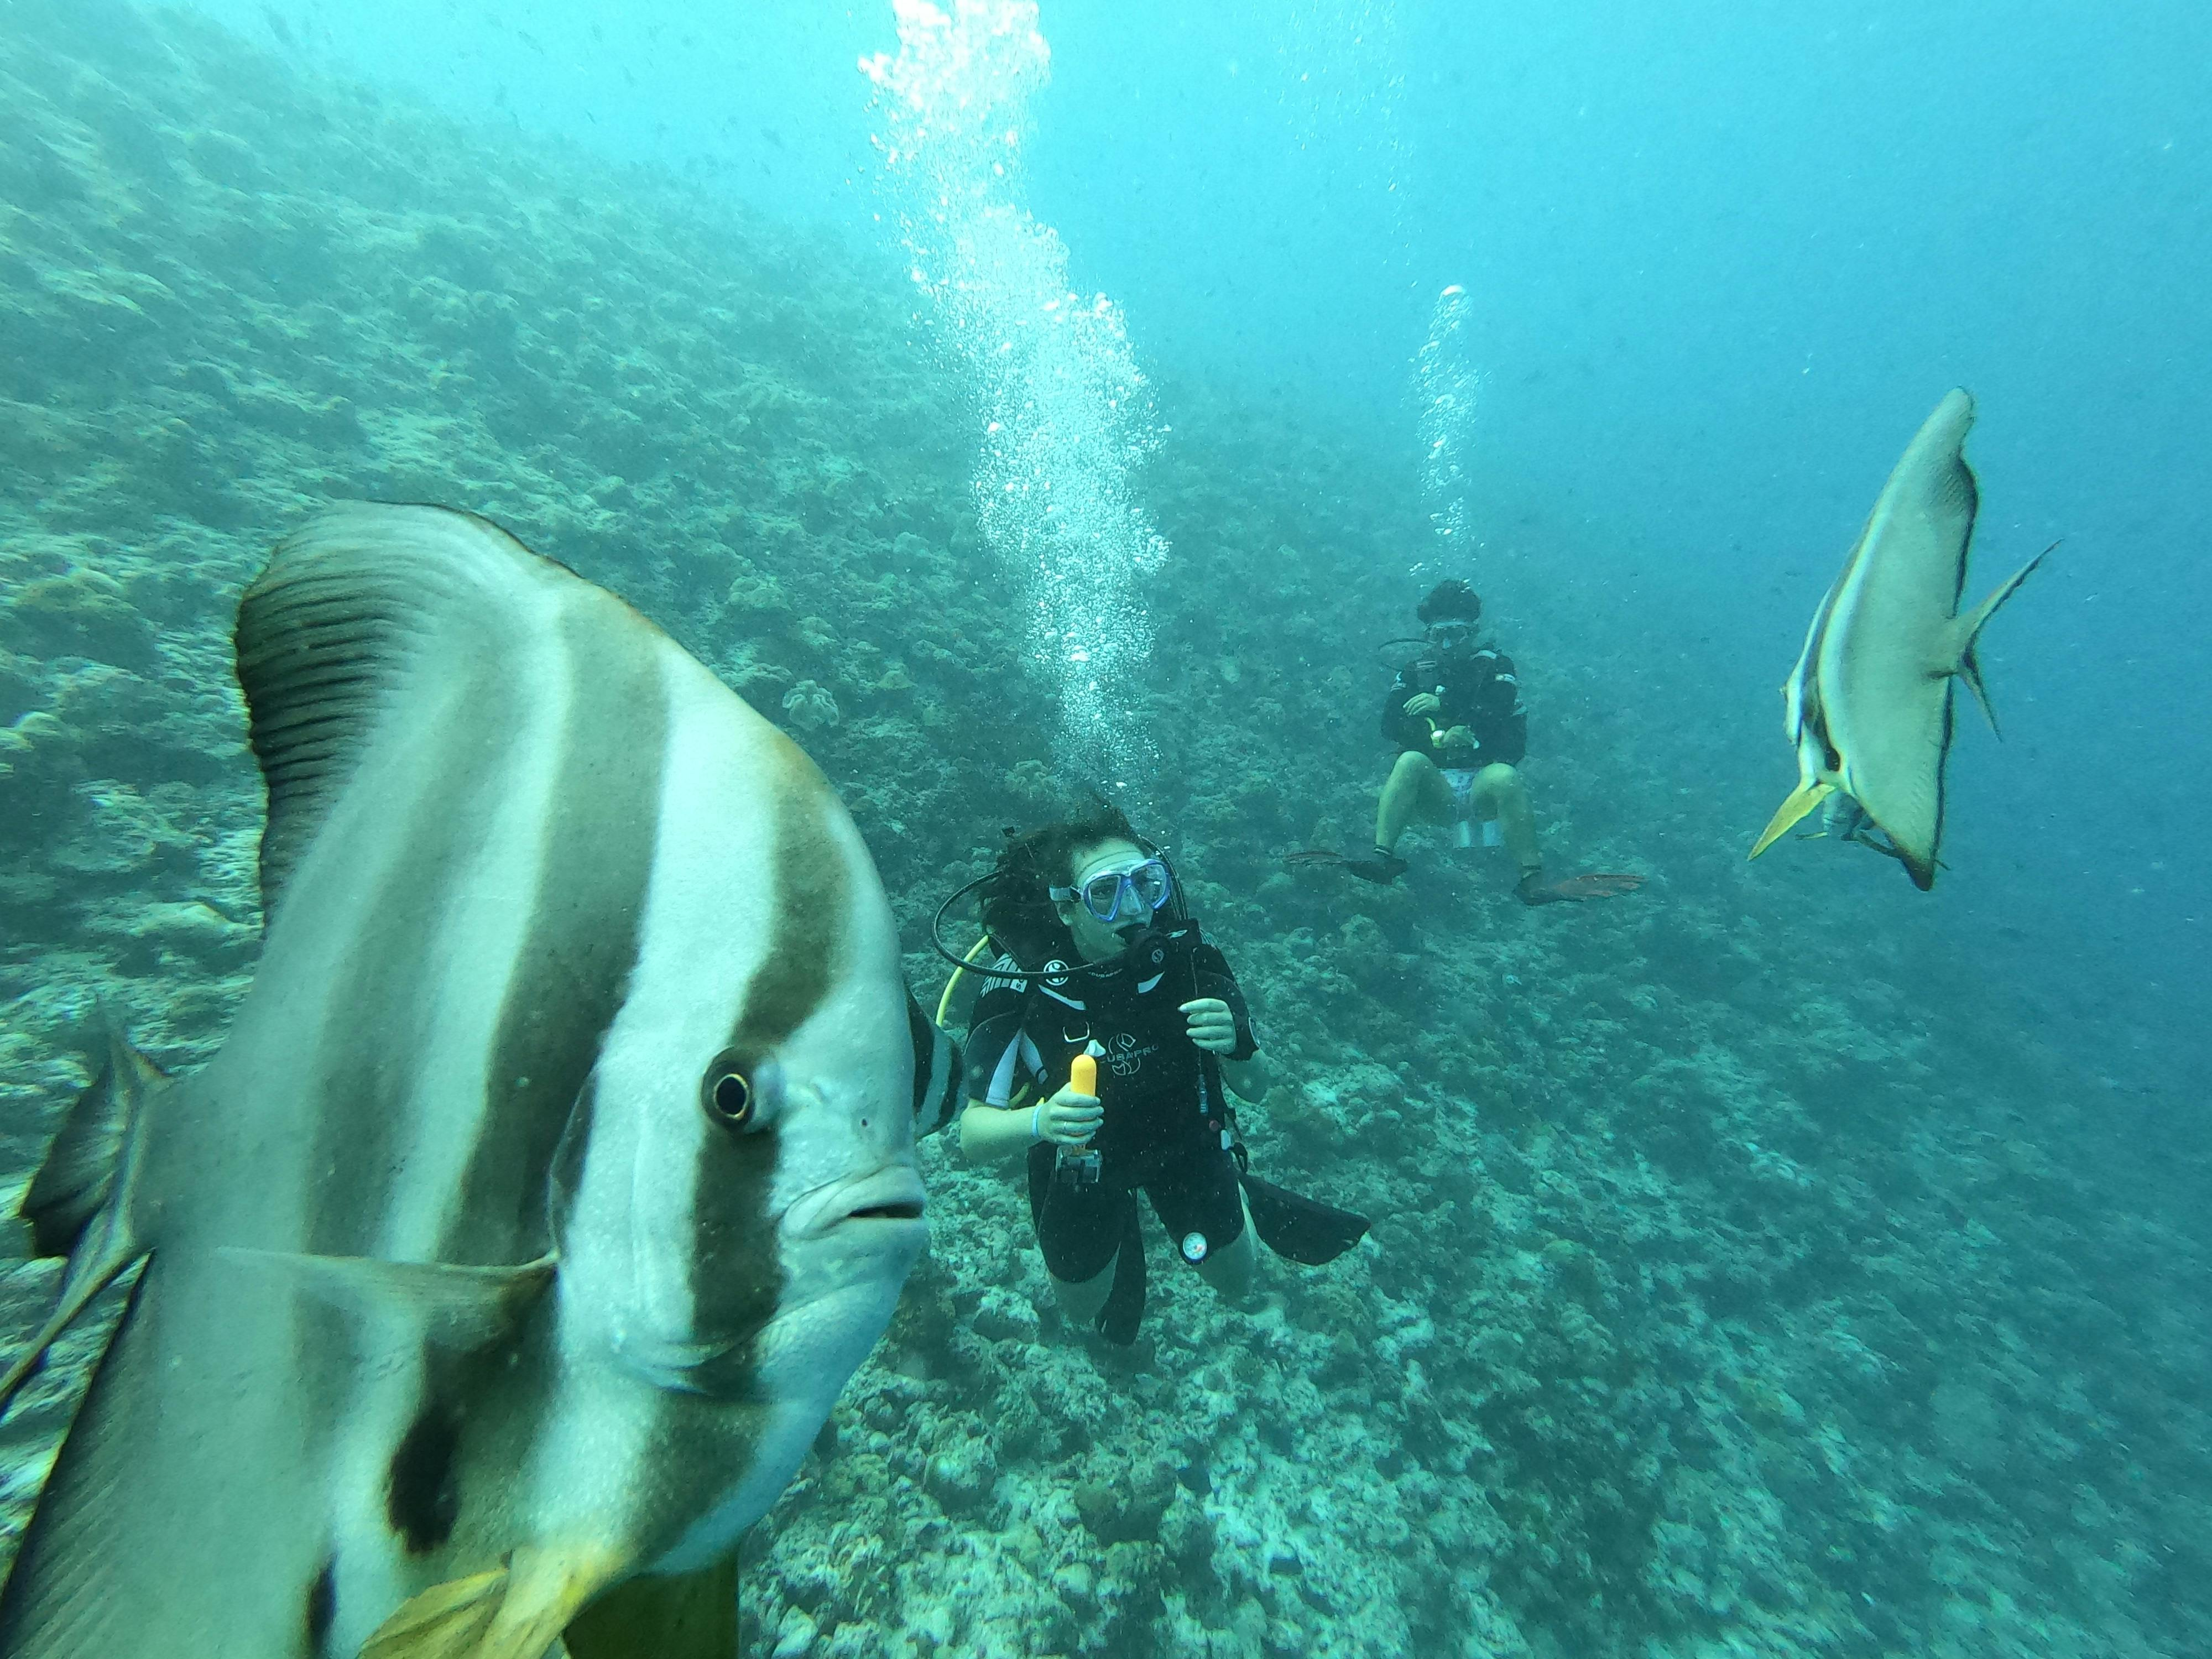fishRound: (2, 491, 932, 1657), (1745, 385, 2064, 896), (897, 974, 974, 1147)
